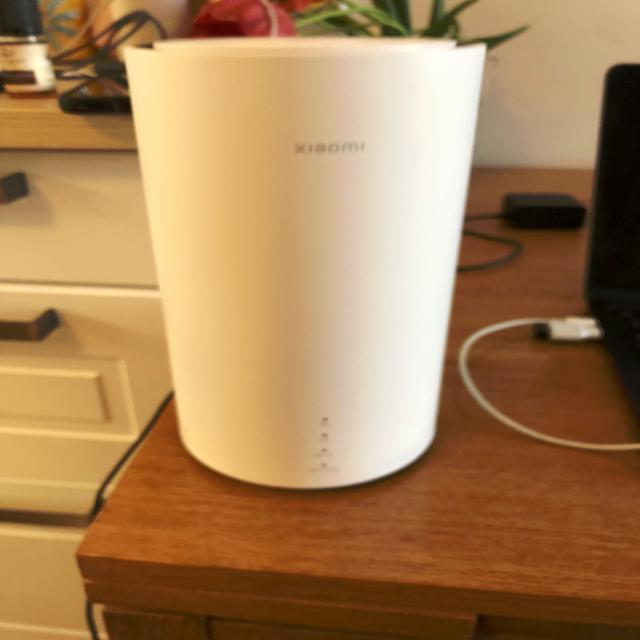modem: (117, 39, 494, 497)
off: (316, 412, 334, 426), (316, 460, 332, 468), (319, 445, 331, 455), (319, 431, 332, 440)
